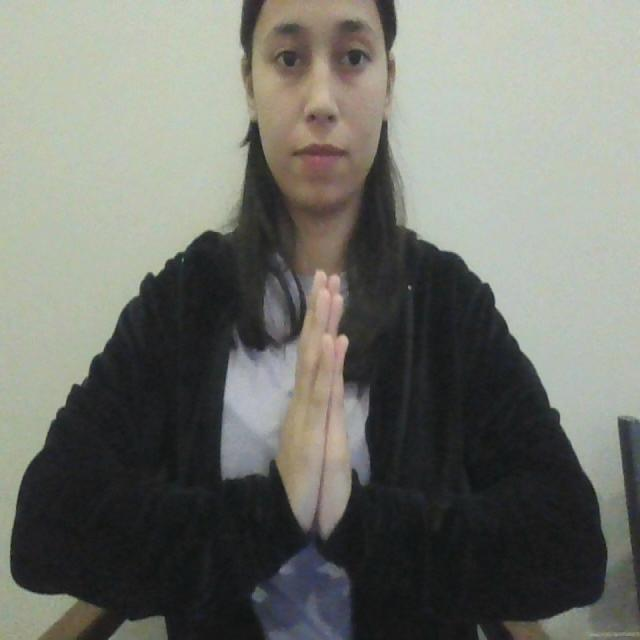Ozur-Dilemek: (276, 253, 362, 547)
